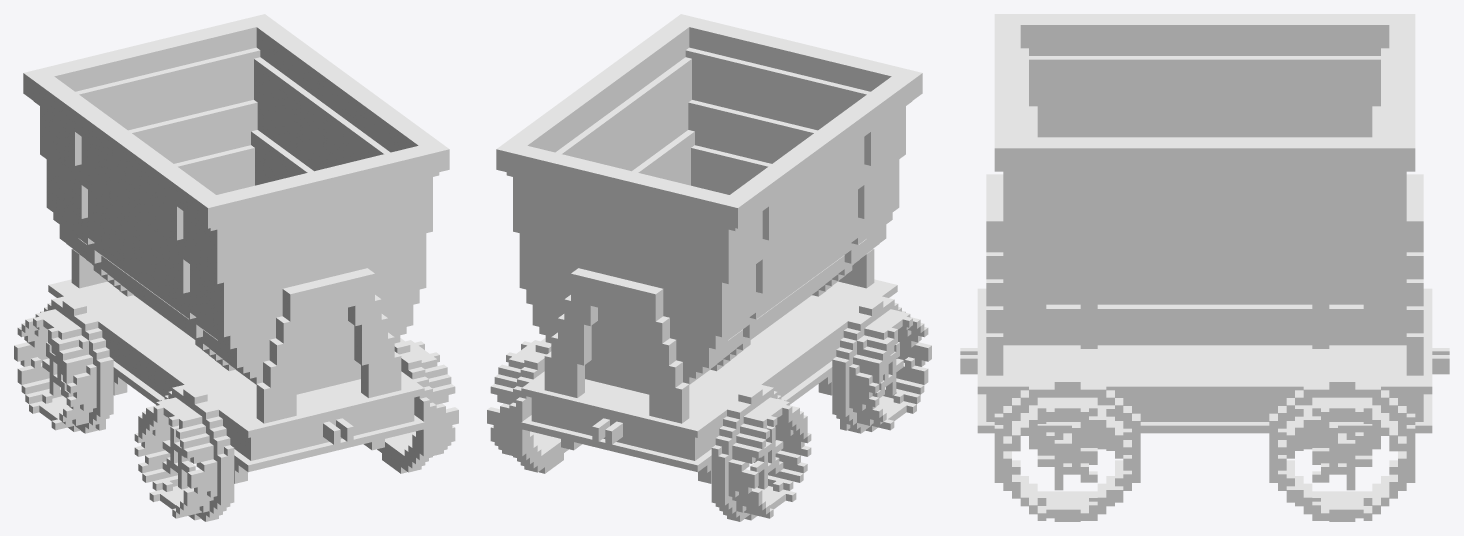
Rendered from Cart.fbx.
3 views of the same model, side by side, from view 1: azimuth 30°, elevation 25°; view 2: azimuth 150°, elevation 25°; view 3: azimuth 270°, elevation 25° (orthographic). The views are drawn at different scales.
Parts seen in each view (by area): view 1: Minecart; view 2: Minecart; view 3: Minecart.
Boxes of the visible parts, x1=… form: Minecart: x1=14, y1=14, x2=458, y2=521; Minecart: x1=487, y1=14, x2=931, y2=521; Minecart: x1=960, y1=14, x2=1449, y2=521.
Size of the model in its own units: 466 by 557 by 648.
